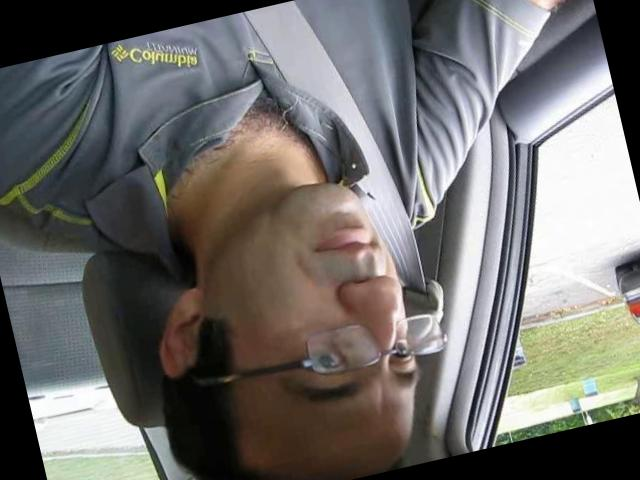eye_open: (302, 333, 368, 382), (382, 338, 420, 372)
face: (199, 167, 437, 445)
